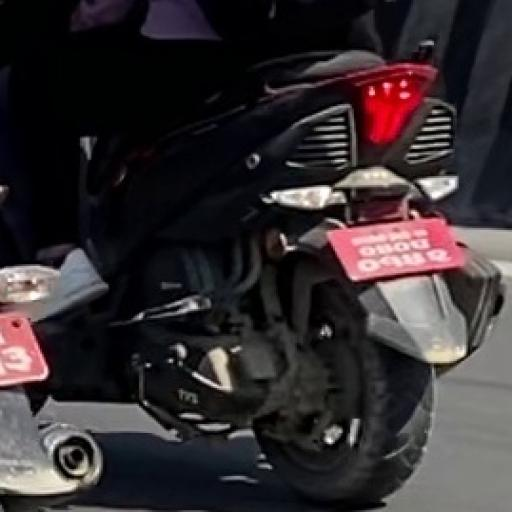license_plate: (322, 213, 472, 286), (0, 305, 56, 392)
